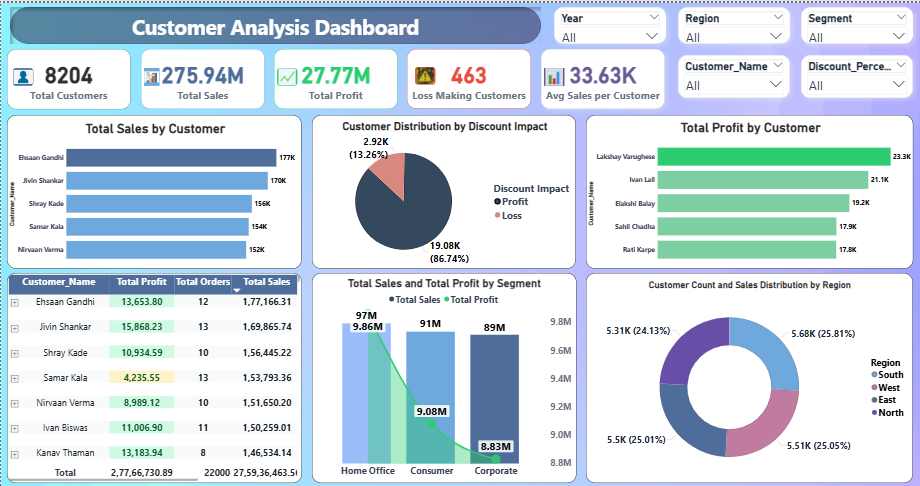

What the dashboard file says about the page in this screenshot:
{"tool":"powerbi","page":{"name":"Customer Analysis Dashboard","canvas":[3000,1600],"ordinal":3},"visuals":[{"type":"shape","title":"Customer Analysis Dashboard","box":[29.3,13,1726.8,120.3],"z":0},{"type":"card","fields":{"Values":["Fact_Sales.Total Customers"]},"box":[19.5,149.6,402,196],"z":1000,"group":"g1"},{"type":"clusteredBarChart","title":"Total Sales by Customer","fields":{"Category":["Dim_Customer.Customer_Name"],"Y":["Fact_Sales.Total Sales"]},"box":[20,363.2,958.1,500.5],"z":1000},{"type":"pivotTable","title":"Customer Contribution Analysis","fields":{"Rows":["Dim_Customer.Customer_Name","Dim_Customer.Customer_ID"],"Values":["Fact_Sales.Total Profit","Fact_Sales.Total Orders","Fact_Sales.Total Sales","Fact_Sales.Avg Profit per Order"]},"box":[19.5,878,959.3,682.9],"z":2000},{"type":"lineClusteredColumnComboChart","fields":{"Y":["Fact_Sales.Total Sales"],"Y2":["Fact_Sales.Total Profit"],"Category":["Dim_Customer.Segment"]},"box":[1011.4,878,860,682.9],"z":3000},{"type":"donutChart","title":"Customer Count and Sales Distribution by Region","fields":{"Category":["Dim_Customer.Region"],"Y":["CountNonNull(Fact_Sales.Customer_ID)"]},"box":[1902.4,878,1063.4,682.9],"z":4000},{"type":"pieChart","title":"Customer Distribution by Discount Impact","fields":{"Category":["Fact_Sales.Discount Impact"],"Y":["CountNonNull(Fact_Sales.Customer_ID)"]},"box":[1012.4,363.2,858,500.5],"z":5000},{"type":"clusteredBarChart","title":"Total Profit by Customer","fields":{"Category":["Dim_Customer.Customer_Name"],"Y":["Fact_Sales.Total Profit"]},"box":[1901.8,363.2,1063.9,500.5],"z":6000},{"type":"group","id":"g1","title":"Group 1","box":[19.5,149.6,403.3,195.1],"z":7000},{"type":"group","id":"g2","title":"Group 2","box":[455.3,149.6,401.7,194.9],"z":8000},{"type":"card","fields":{"Values":["Fact_Sales.Total Sales"]},"box":[455.3,149.6,401.7,194.9],"z":8000,"group":"g2"},{"type":"group","id":"g3","title":"Group 3","box":[887.8,149.6,400,195.1],"z":9000},{"type":"card","fields":{"Values":["Fact_Sales.Total Profit"]},"box":[887.8,149.6,402,194.9],"z":9000,"group":"g3"},{"type":"slicer","fields":{"Values":["Dim_Date.Year"]},"box":[1798.4,13,365,120.3],"z":10000},{"type":"card","fields":{"Values":["Fact_Sales.Loss Making Customers"]},"box":[1320.3,149.6,403.2,194.5],"z":10000,"group":"g5"},{"type":"slicer","fields":{"Values":["Dim_Customer.Region"]},"box":[2200,13,365,120.3],"z":11000},{"type":"slicer","fields":{"Values":["Dim_Customer.Segment"]},"box":[2601.6,13,365,120.3],"z":12000},{"type":"image","box":[39.6,211.3,66,58],"z":12000,"group":"g1"},{"type":"slicer","fields":{"Values":["Dim_Customer.Customer_Name"]},"box":[2201.6,169.1,364.2,139.8],"z":13000},{"type":"image","box":[895.9,211.4,66,57.7],"z":13000,"group":"g3"},{"type":"slicer","fields":{"Values":["Fact_Sales.Discount_Percent"]},"box":[2601.6,169.1,364.2,140],"z":14000},{"type":"group","id":"g4","title":"Group 4","box":[1756.1,149.6,403.3,195.1],"z":15000},{"type":"group","id":"g5","title":"Group 5","box":[1320.3,149.6,403.3,195.1],"z":16000},{"type":"card","fields":{"Values":["Fact_Sales.Avg Sales per Customer"]},"box":[1756.1,149.6,402,194.9],"z":16000,"group":"g4"},{"type":"image","box":[464,211,50,58],"z":16000,"group":"g2"},{"type":"image","box":[1346,206.7,66,57.2],"z":17000,"group":"g5"},{"type":"image","box":[1765.5,211,66,57.7],"z":18000,"group":"g4"}]}

Visuals, with their boxes in screenshot pixels (x1, y1, x2, y2), scaled from the page's 3000x1600 canvas onto the 920x486 screenshot:
"Customer Analysis Dashboard" shape: bbox=[9, 4, 539, 40]
card - Fact_Sales.Total Customers: bbox=[6, 45, 129, 105]
"Total Sales by Customer" clusteredBarChart: bbox=[6, 110, 300, 262]
"Customer Contribution Analysis" pivotTable: bbox=[6, 267, 300, 474]
lineClusteredColumnComboChart - Fact_Sales.Total Sales x Fact_Sales.Total Profit: bbox=[310, 267, 574, 474]
"Customer Count and Sales Distribution by Region" donutChart: bbox=[583, 267, 910, 474]
"Customer Distribution by Discount Impact" pieChart: bbox=[310, 110, 574, 262]
"Total Profit by Customer" clusteredBarChart: bbox=[583, 110, 909, 262]
"Group 1" group: bbox=[6, 45, 130, 105]
"Group 2" group: bbox=[140, 45, 263, 105]
card - Fact_Sales.Total Sales: bbox=[140, 45, 263, 105]
"Group 3" group: bbox=[272, 45, 395, 105]
card - Fact_Sales.Total Profit: bbox=[272, 45, 396, 105]
slicer - Dim_Date.Year: bbox=[552, 4, 663, 40]
card - Fact_Sales.Loss Making Customers: bbox=[405, 45, 529, 105]
slicer - Dim_Customer.Region: bbox=[675, 4, 787, 40]
slicer - Dim_Customer.Segment: bbox=[798, 4, 910, 40]
image: bbox=[12, 64, 32, 82]
slicer - Dim_Customer.Customer_Name: bbox=[675, 51, 787, 94]
image: bbox=[275, 64, 295, 82]
slicer - Fact_Sales.Discount_Percent: bbox=[798, 51, 910, 94]
"Group 4" group: bbox=[539, 45, 662, 105]
"Group 5" group: bbox=[405, 45, 529, 105]
card - Fact_Sales.Avg Sales per Customer: bbox=[539, 45, 662, 105]
image: bbox=[142, 64, 158, 82]
image: bbox=[413, 63, 433, 80]
image: bbox=[541, 64, 562, 82]
